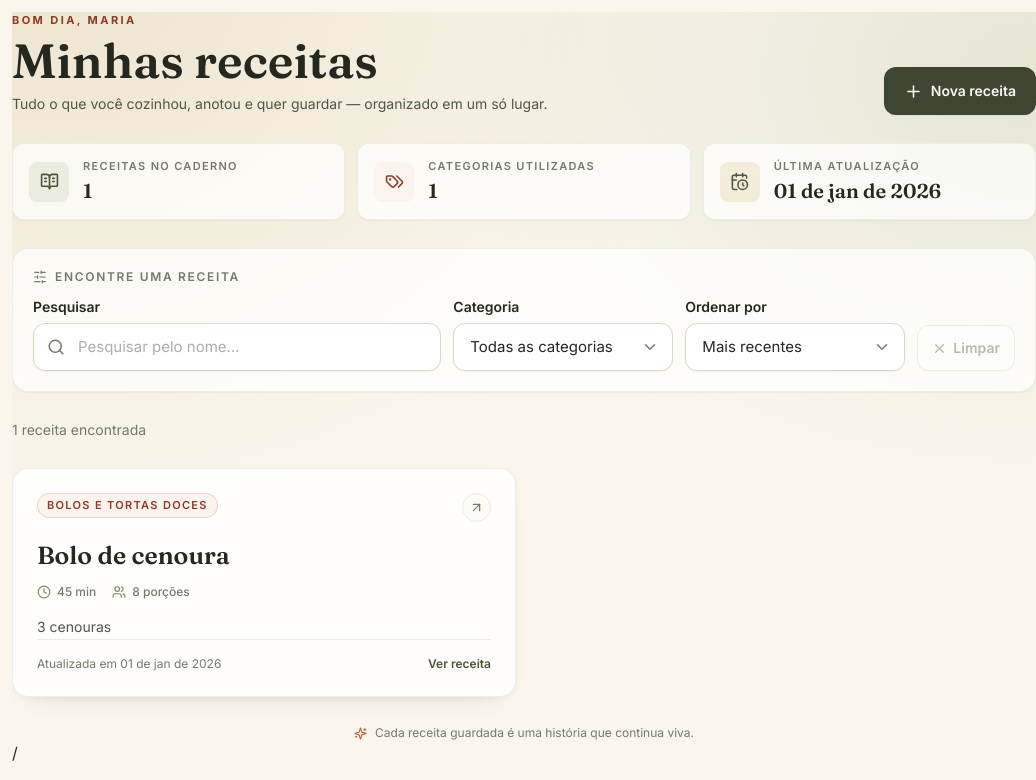
Test: RecipesPage › applies the category filter in the URL
Select "Massas" in the dropdown labelled "Categoria" at [563, 347], box [453,323,673,371]
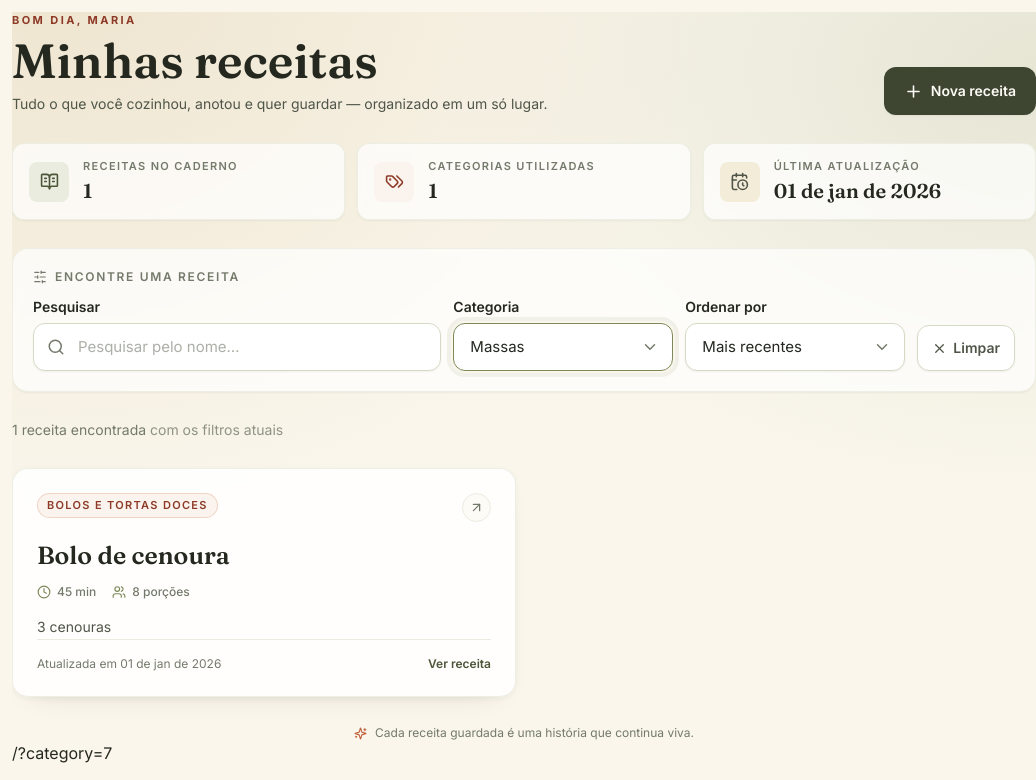
Result: the text with test id "location" shows "?category=7" at [12,743,112,763]
